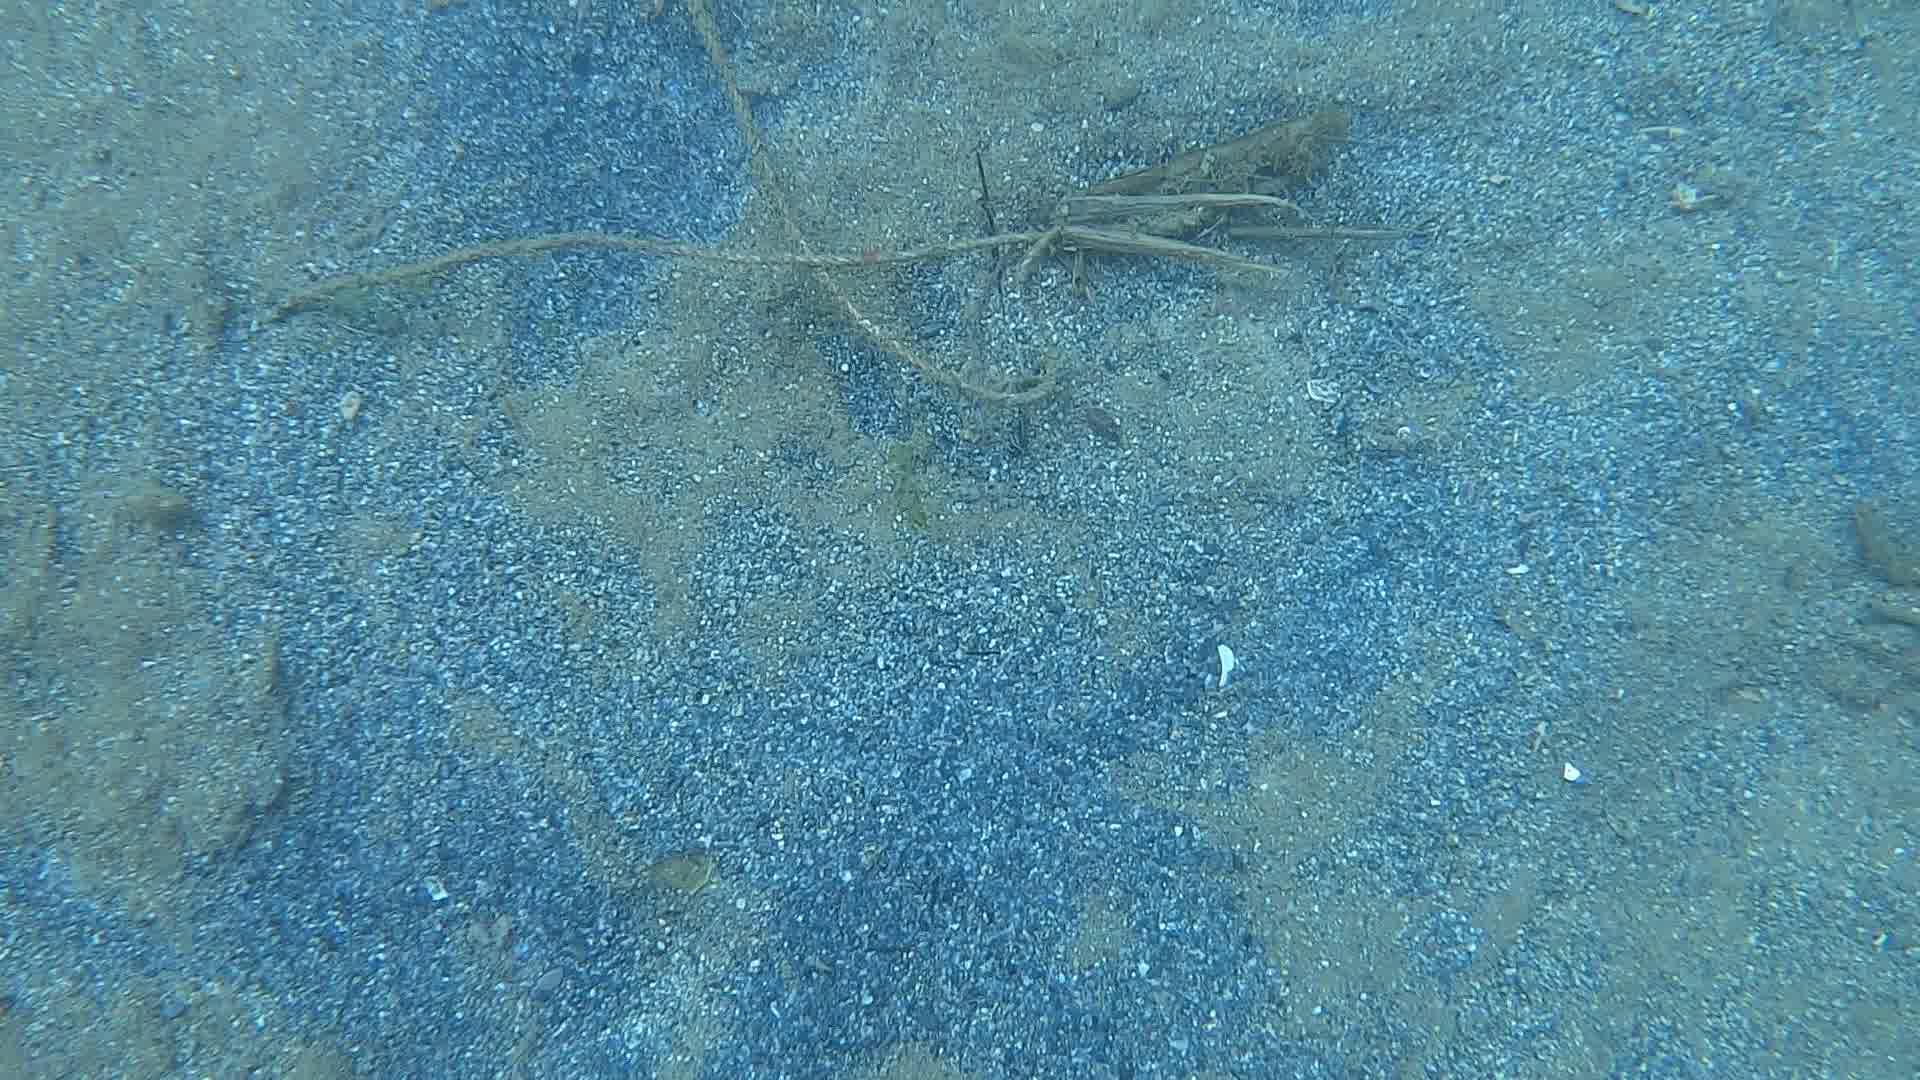bundle of ropes: (291, 0, 1058, 406)
